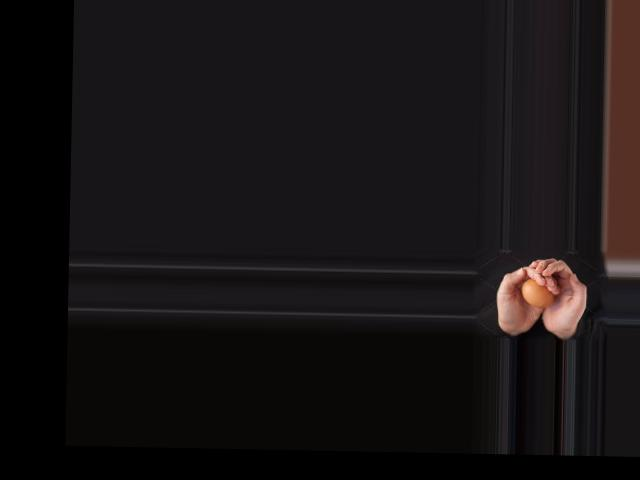egg: (521, 279, 556, 308)
